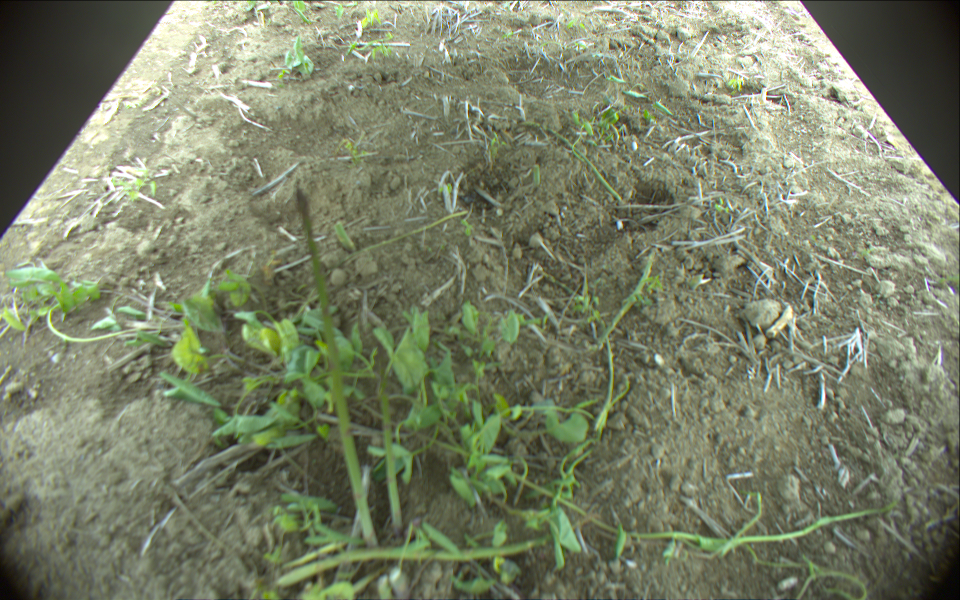aspa: (289, 184, 379, 550), (268, 534, 546, 590), (597, 250, 657, 354), (379, 375, 406, 534)
